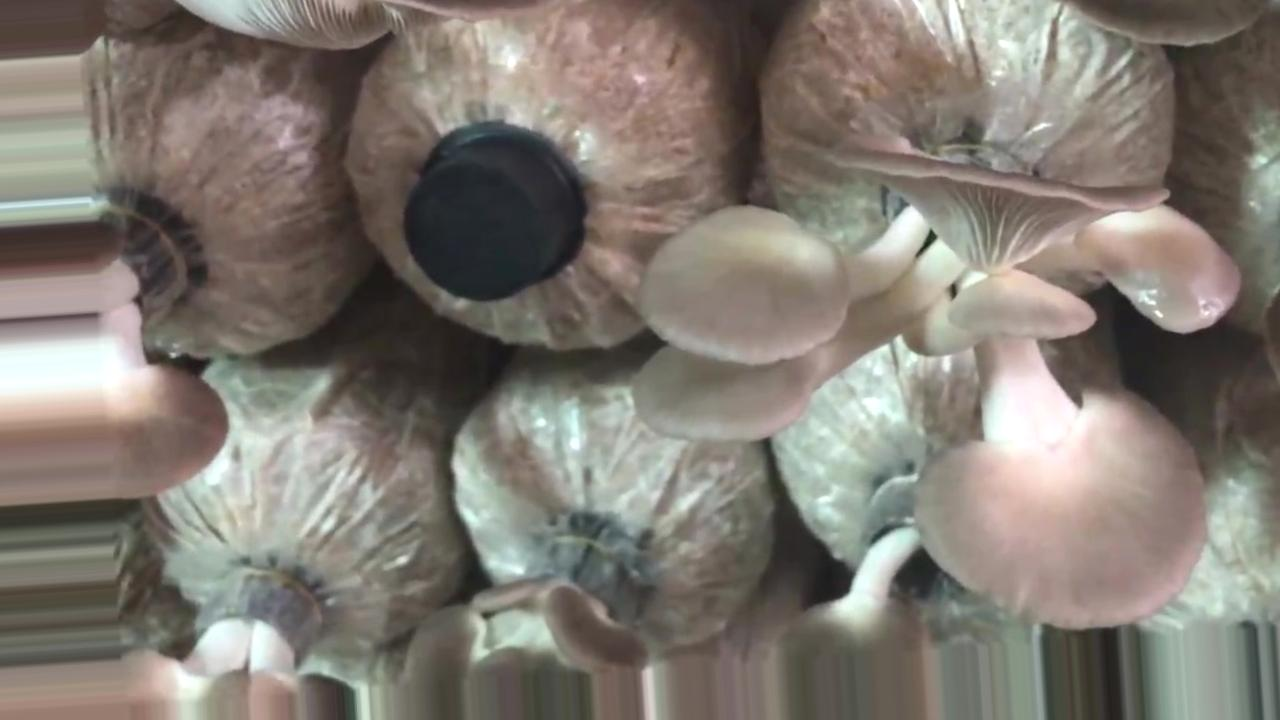nam: (630, 125, 1245, 638)
